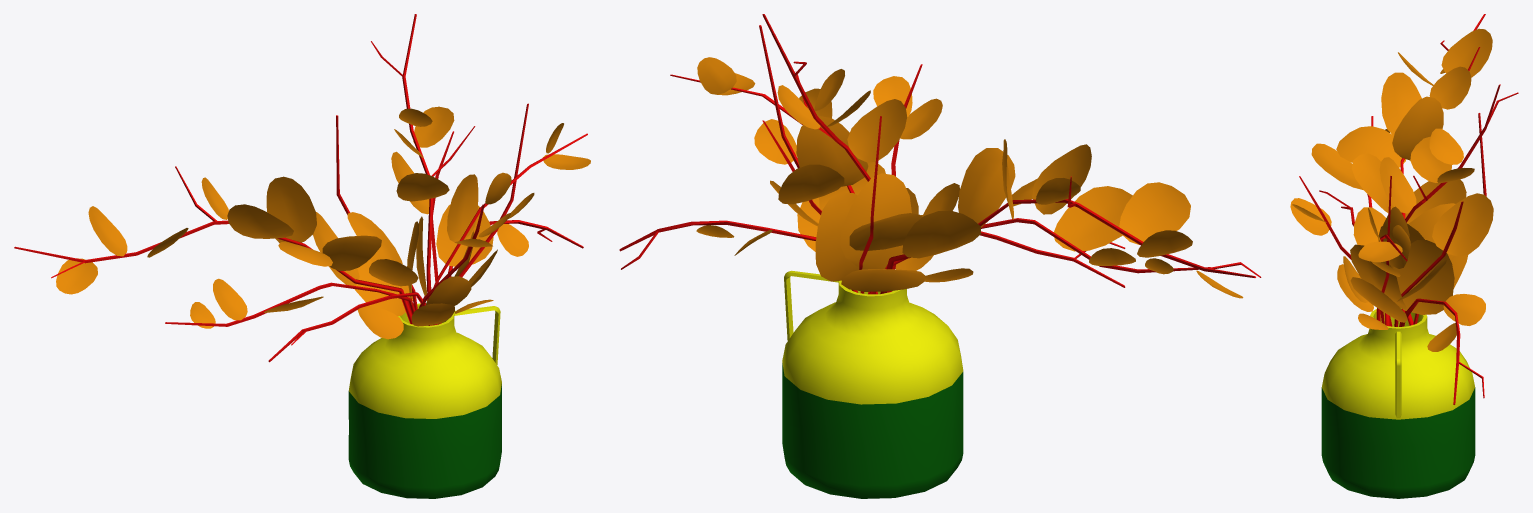
File: LR_VaseLeaves.fbx
3 renders of one model, left to right at view 1: azimuth 30°, elevation 25°; view 2: azimuth 150°, elevation 25°; view 3: azimuth 270°, elevation 25°, orthographic. The views are drawn at different scales.
Parts seen in each view (by area): view 1: LR_VaseLeaves; view 2: LR_VaseLeaves; view 3: LR_VaseLeaves.
Part boxes in pixels (left/top/right/bottom): LR_VaseLeaves: left=14, top=14, right=590, bottom=498; LR_VaseLeaves: left=619, top=14, right=1261, bottom=498; LR_VaseLeaves: left=1290, top=14, right=1518, bottom=498.
Size of the model in its own units: 127 by 89.12 by 45.63.
